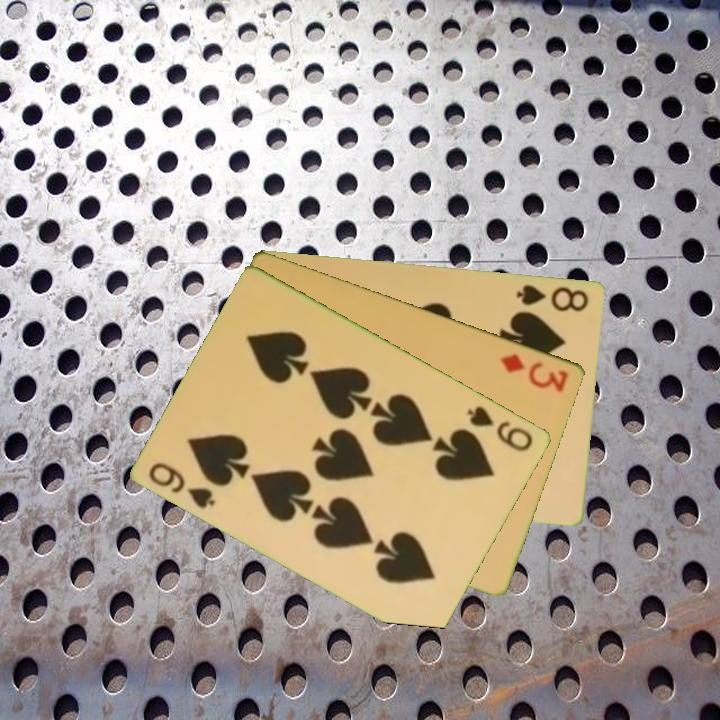3d: (497, 350, 572, 395)
8s: (513, 281, 592, 314)
9s: (145, 458, 219, 511), (464, 402, 537, 455)
